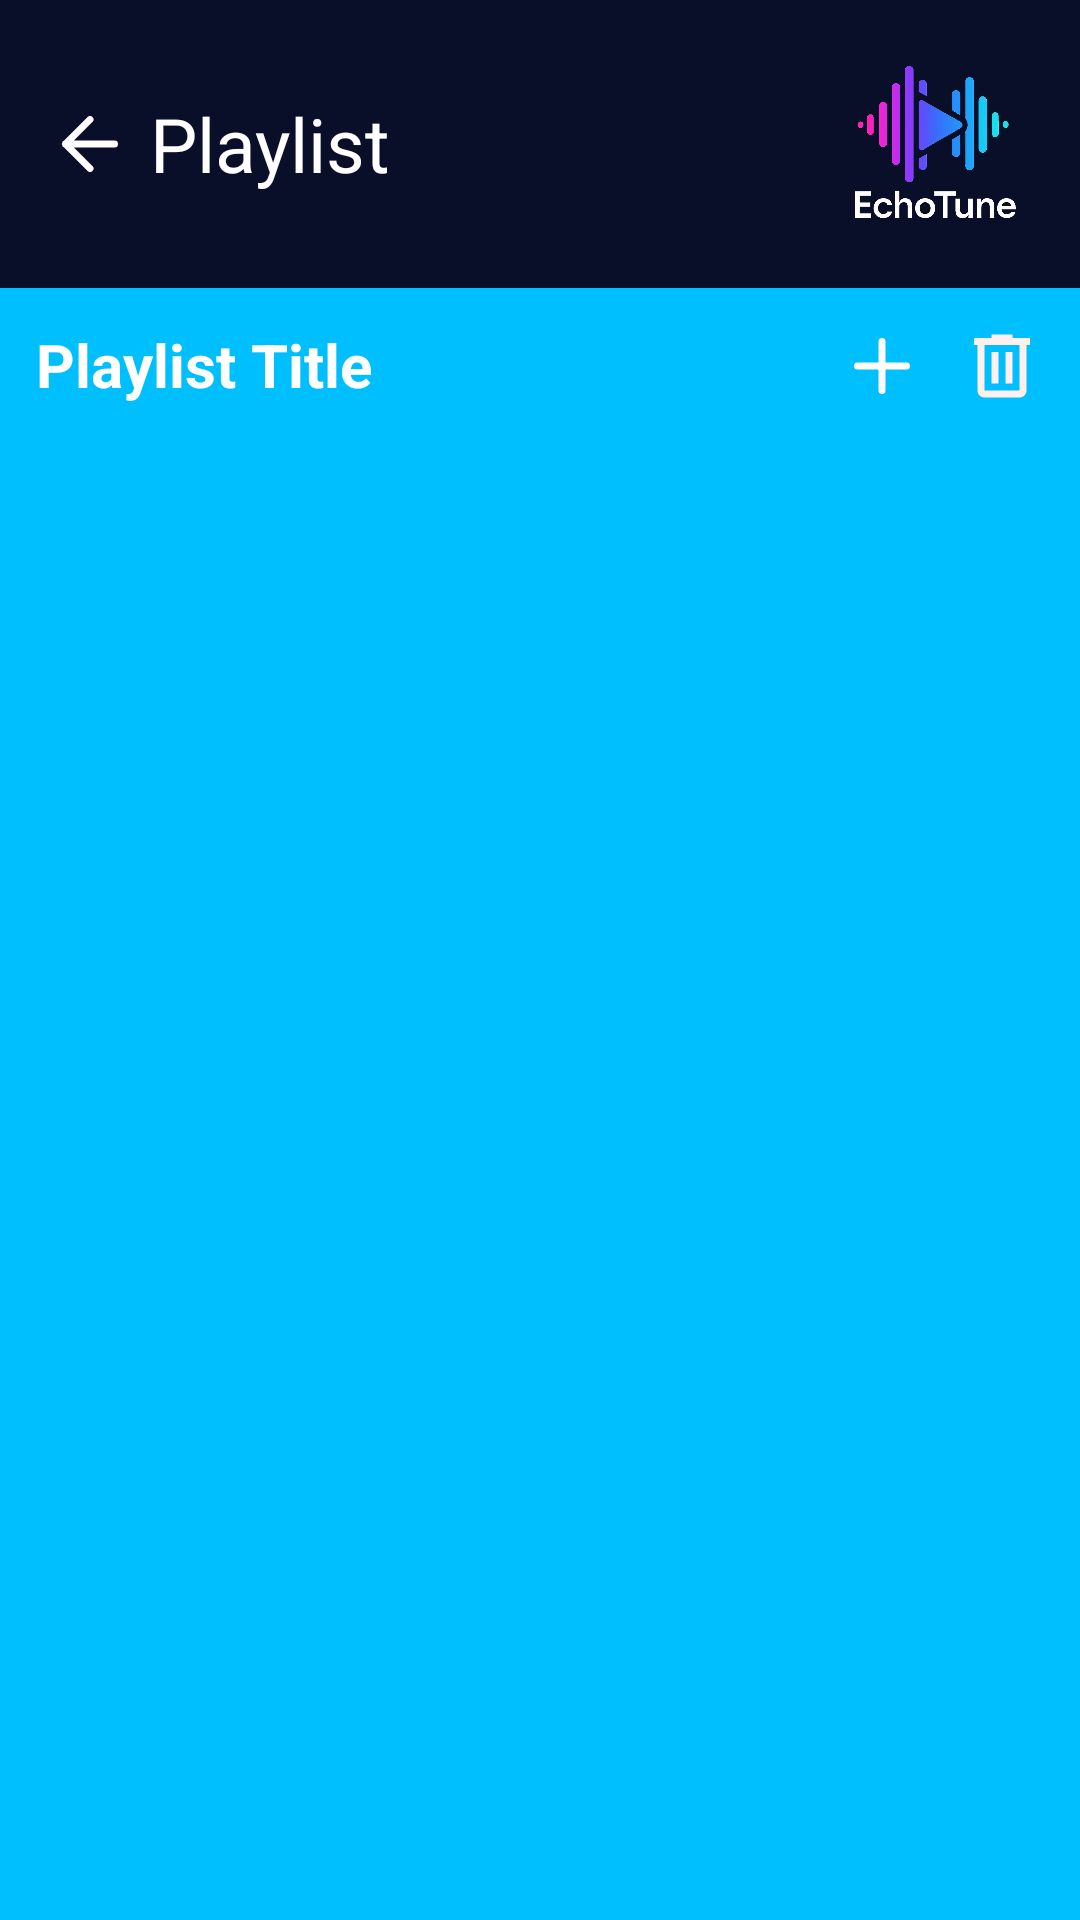

Named icons in this screenshot (1080px×1920px) and their centers, (x,y):
arrow left: (90,144)
delete: (1002,366)
plus: (882,366)
